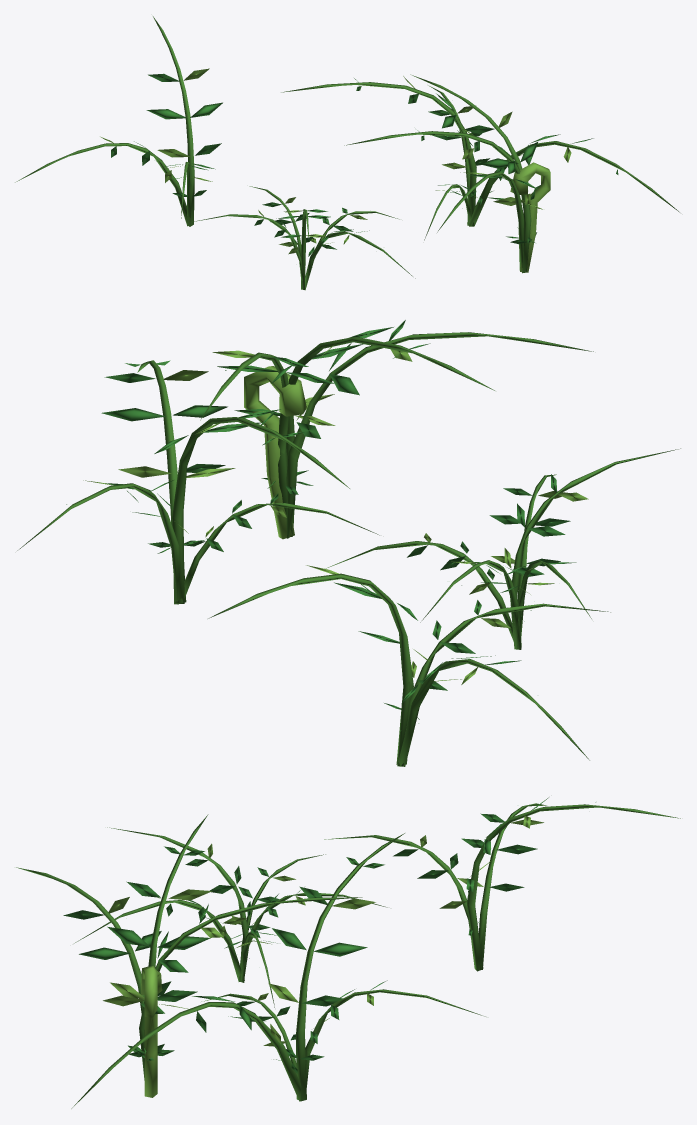
File: canopy_gc_fernlets_b_lod1.glb
3 views of the same model, one above another, from view 1: azimuth 30°, elevation 25°; view 2: azimuth 150°, elevation 25°; view 3: azimuth 270°, elevation 25° (orthographic). The views are drawn at different scales.
Visible parts, largest first — view 1: canopy_gc_fernlets_b.001; view 2: canopy_gc_fernlets_b.001; view 3: canopy_gc_fernlets_b.001.
Part boxes in pixels (x1,y1,x2,y2): canopy_gc_fernlets_b.001: (15, 16, 679, 290); canopy_gc_fernlets_b.001: (17, 320, 680, 766); canopy_gc_fernlets_b.001: (16, 797, 680, 1108).
Size of the model in its own units: 5.9 by 1.8 by 5.69.
